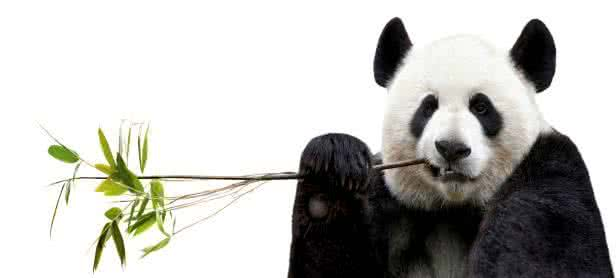panda: (282, 13, 616, 275)
